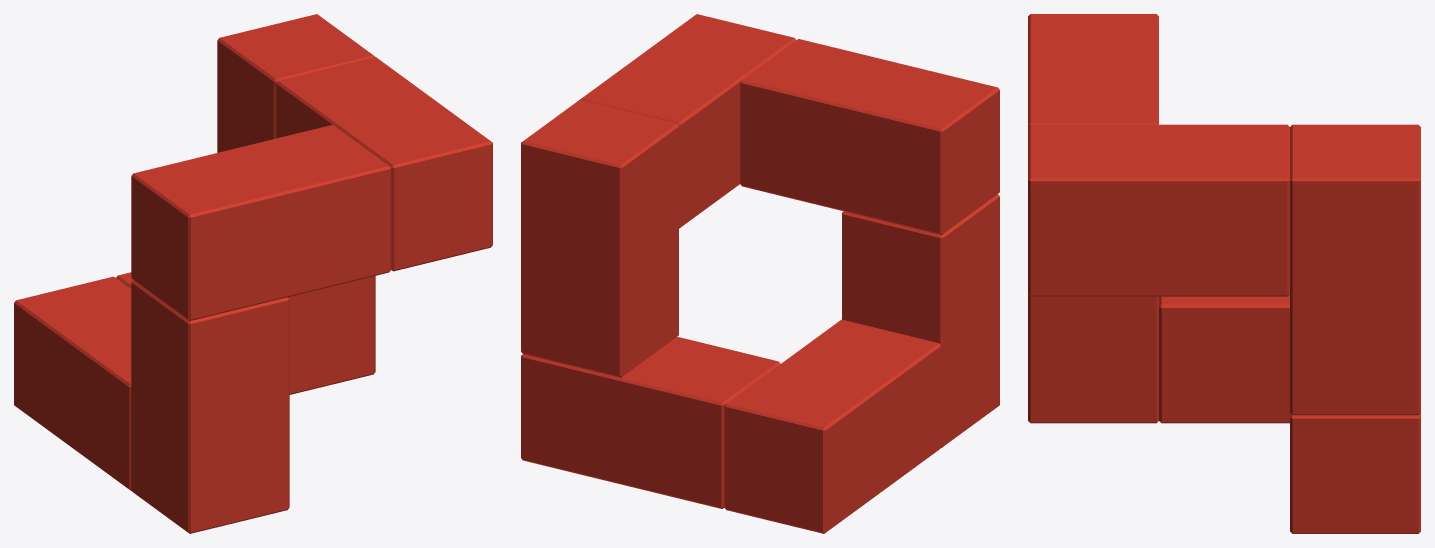
File: naef_L.fbx
3 renders of one model, left to right at view 1: azimuth 30°, elevation 25°; view 2: azimuth 150°, elevation 25°; view 3: azimuth 270°, elevation 25°, orthographic. The views are drawn at different scales.
Visible parts, largest first — view 1: naef_L; view 2: naef_L; view 3: naef_L.
Part boxes in pixels (x1,y1,x2,y2): naef_L: (14,14,492,533); naef_L: (521,14,999,533); naef_L: (1028,14,1420,533).
Size of the model in its own units: 3000 by 3000 by 3000.
